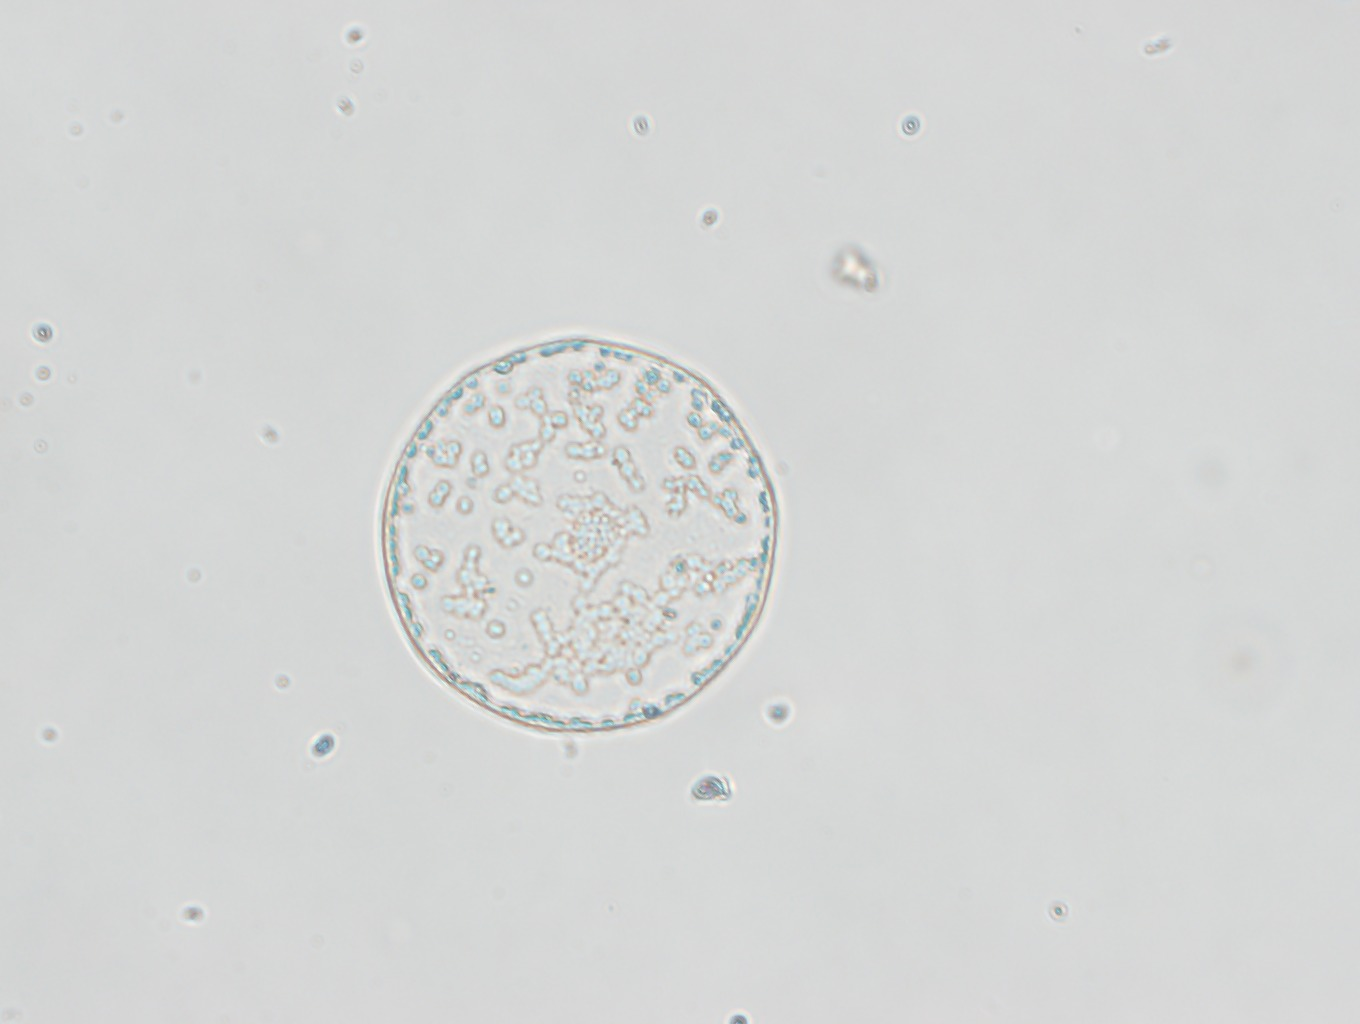coscinodiscus: (377, 336, 781, 733)
